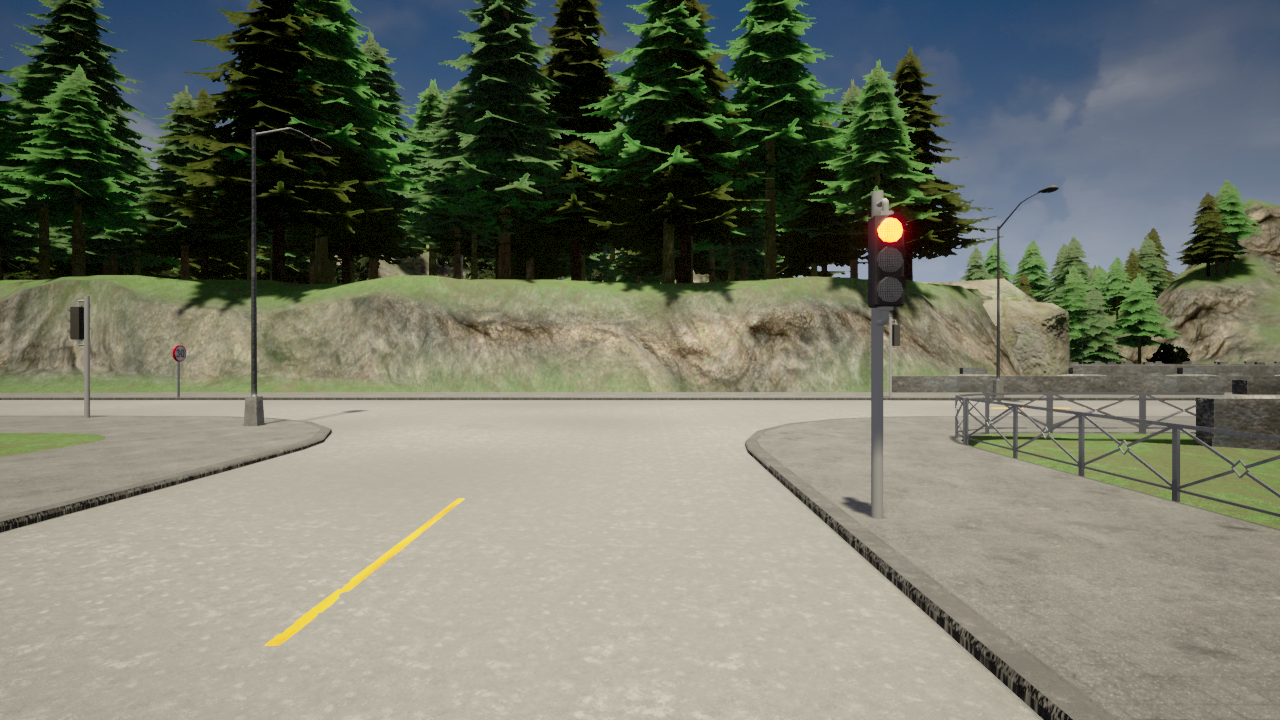red: (869, 212, 905, 307)
